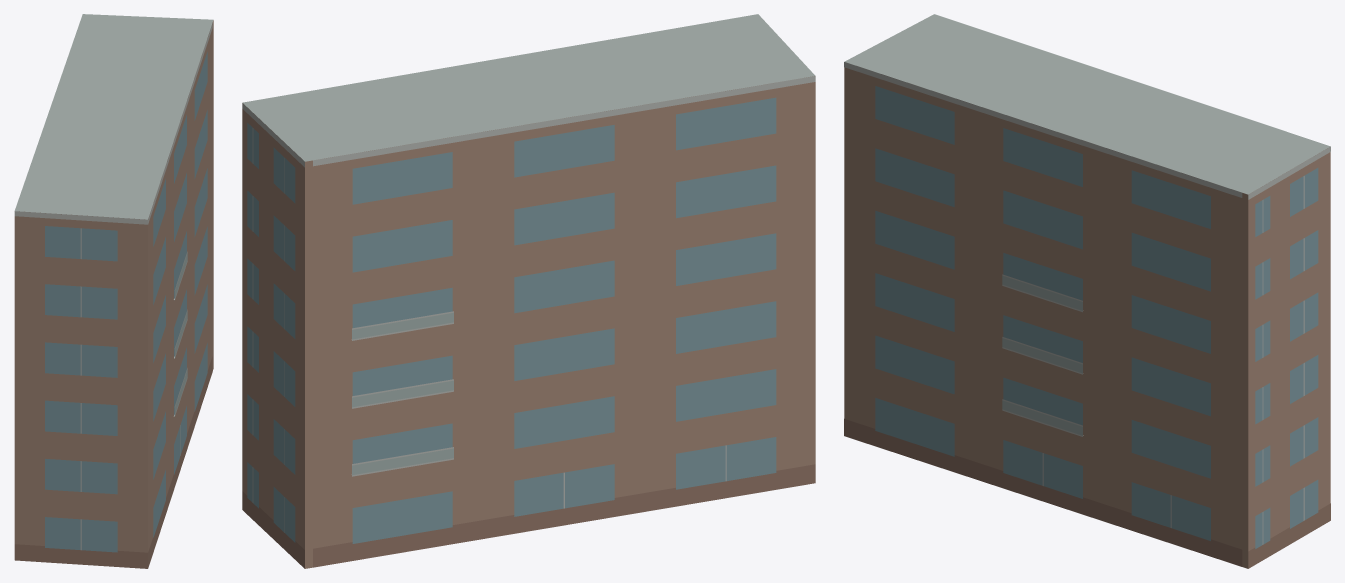
The model's file is survey-upis-32564395.glb.
The picture shows the model from 3 angles, left to right: view 1: azimuth 30°, elevation 25°; view 2: azimuth 150°, elevation 25°; view 3: azimuth 270°, elevation 25°; orthographic projection. The views are drawn at different scales.
Parts seen in each view (by area): view 1: survey-upis-32564395.tmp; view 2: survey-upis-32564395.tmp; view 3: survey-upis-32564395.tmp.
Part boxes in pixels (<box>): survey-upis-32564395.tmp: <box>14,14,213,568</box>; survey-upis-32564395.tmp: <box>242,14,815,568</box>; survey-upis-32564395.tmp: <box>844,14,1330,568</box>.
Bounding box in the file's own units: 17.31 × 16.72 × 19.71.
